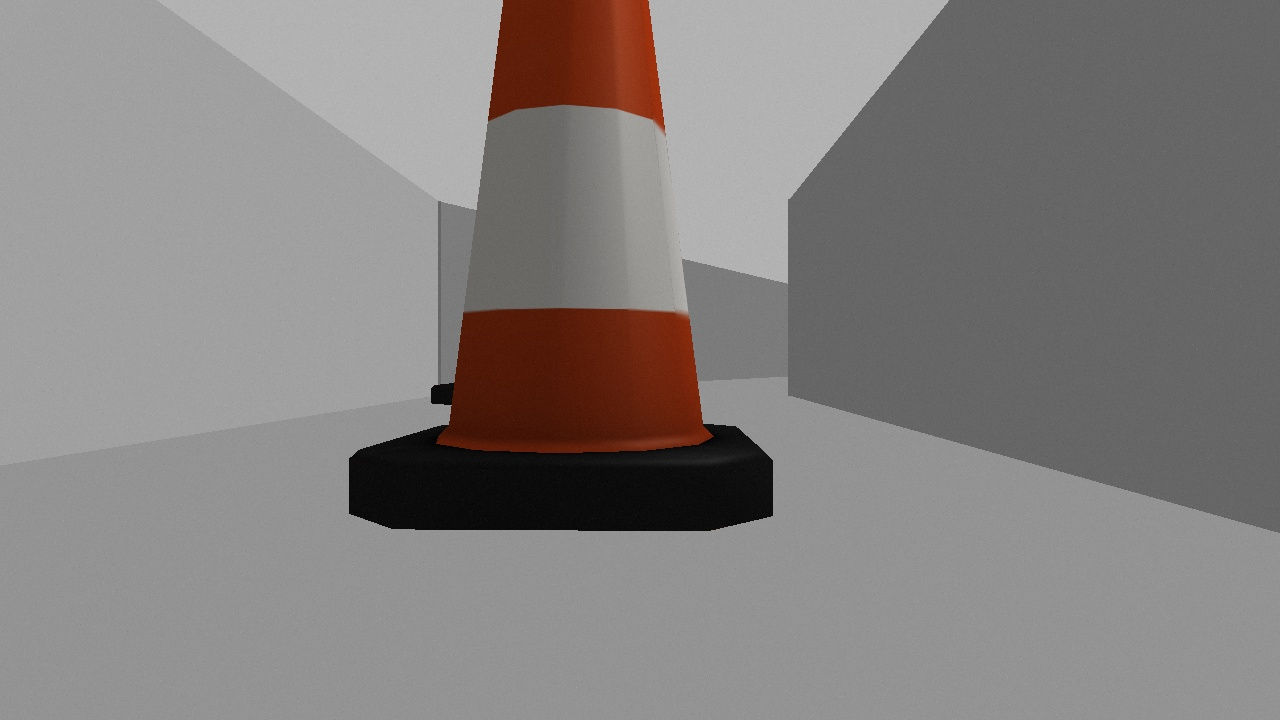barricade: (318, 1, 833, 558)
